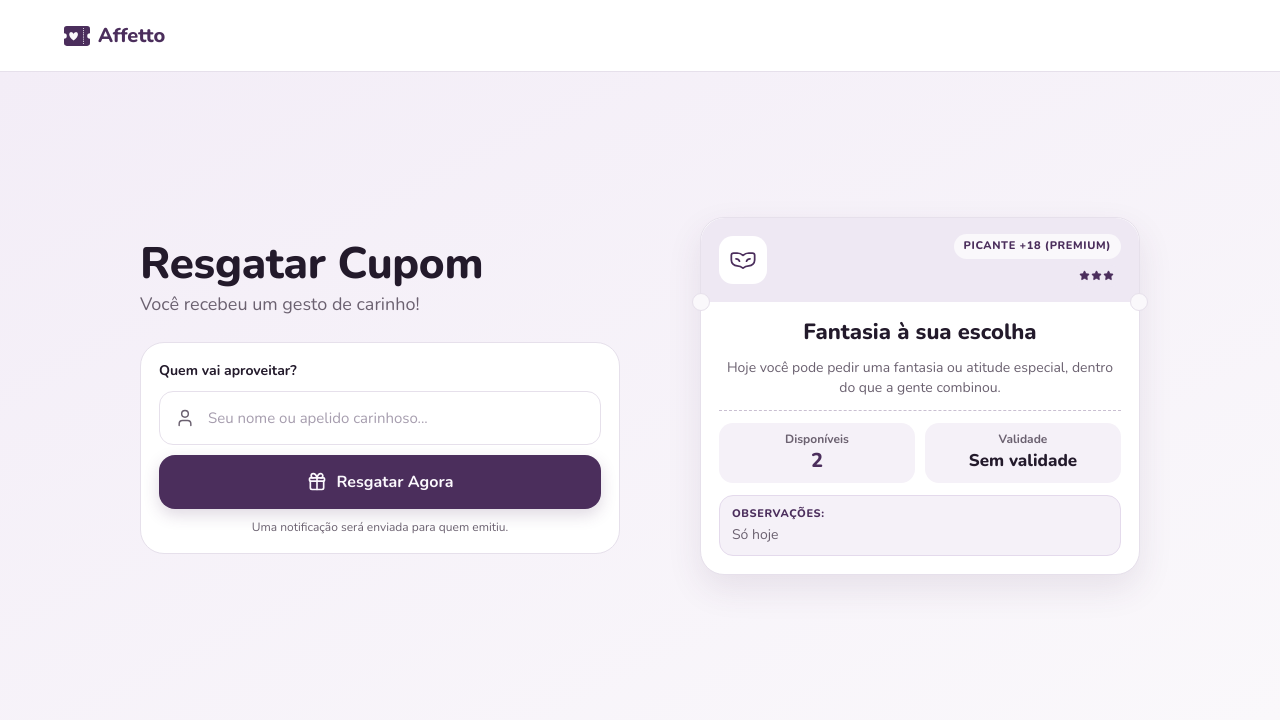
Test: RedeemPage › opens the desktop App Store campaign and notes that Android is coming
The image size is (1280, 720).
Later steps or results of the test are not shown.
Step 1. Type "Ana" into the field labelled "Quem vai aproveitar?" → (380, 418), box x1=159 y1=391 x2=601 y2=445
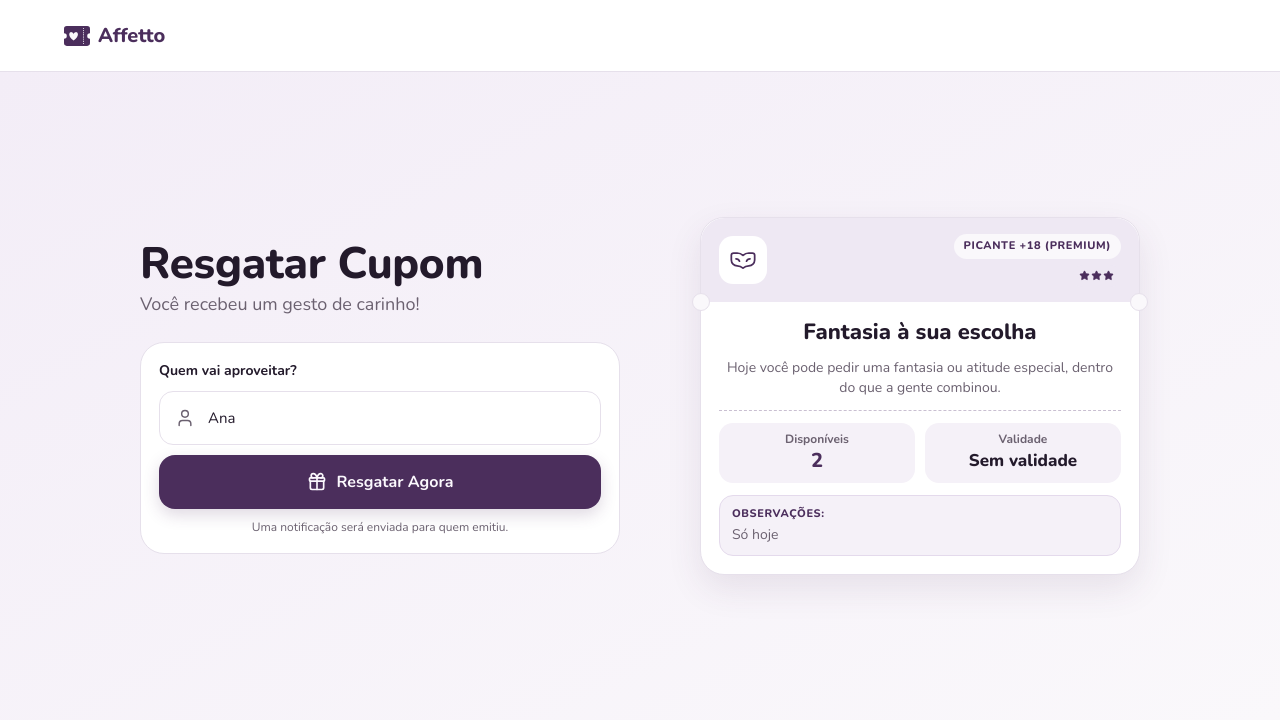
Step 2. Click the button "Resgatar Agora" → click(380, 482), box x1=159 y1=455 x2=601 y2=509
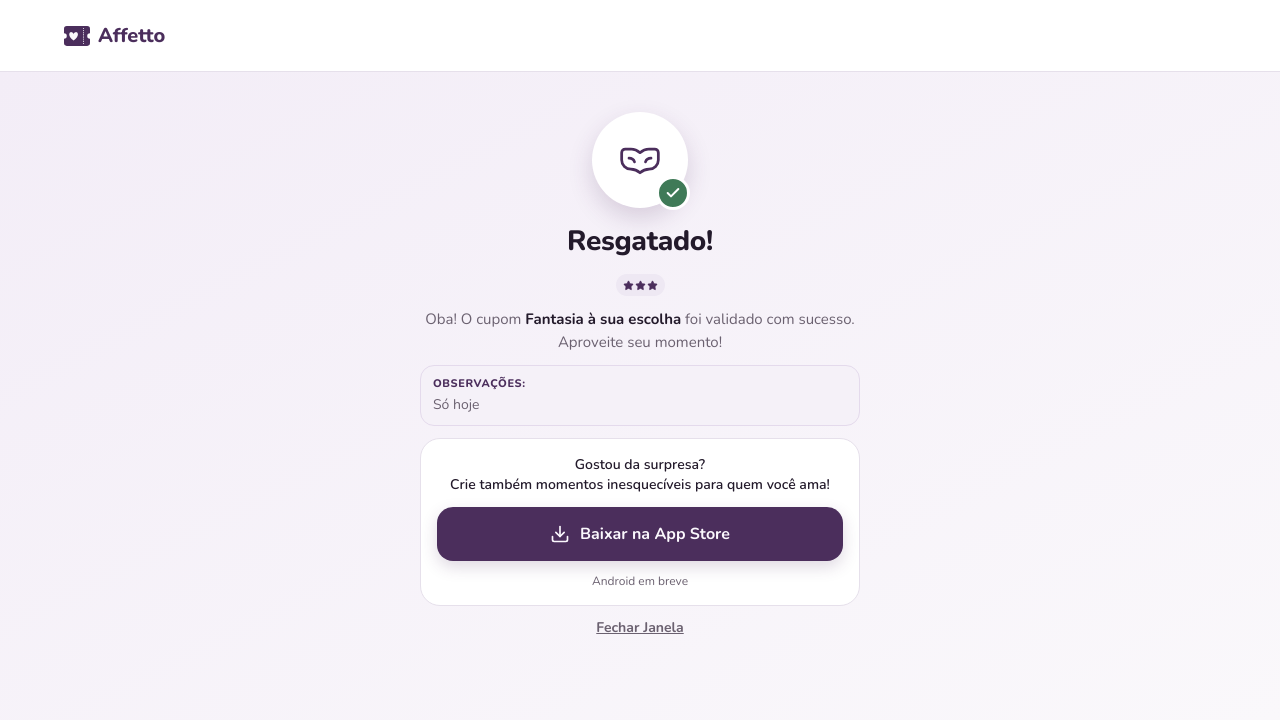
Now the heading "Resgatado!" is shown, box x1=567 y1=220 x2=713 y2=262
Now the text "Android em breve" is shown, box x1=592 y1=572 x2=688 y2=588
